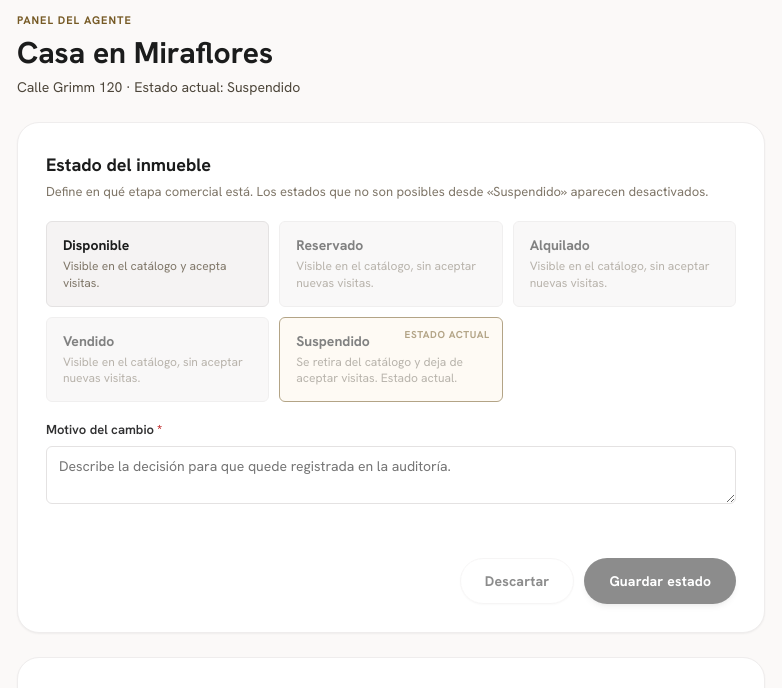
Scenario: AvailabilityPanel › Reflejo de los cambios sobre el panel › abre un suspendido desde gestión y permite reactivarlo al agente asignado
Expected: the text "Calle Grimm 120 · Estado actual: Suspendido" is shown, [17,78,300,96]
Step 1. Click the radio button labelled "Disponible Visible en el catálogo y acepta visitas." → (158, 264), box [46,221,269,307]
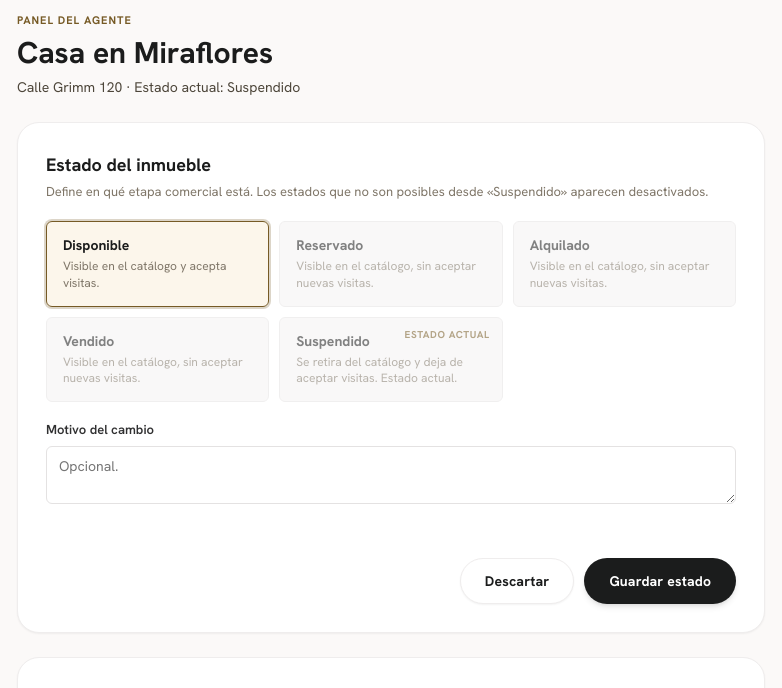
Step 2. Click the button "Guardar estado" → (660, 581), box [584,558,736,604]
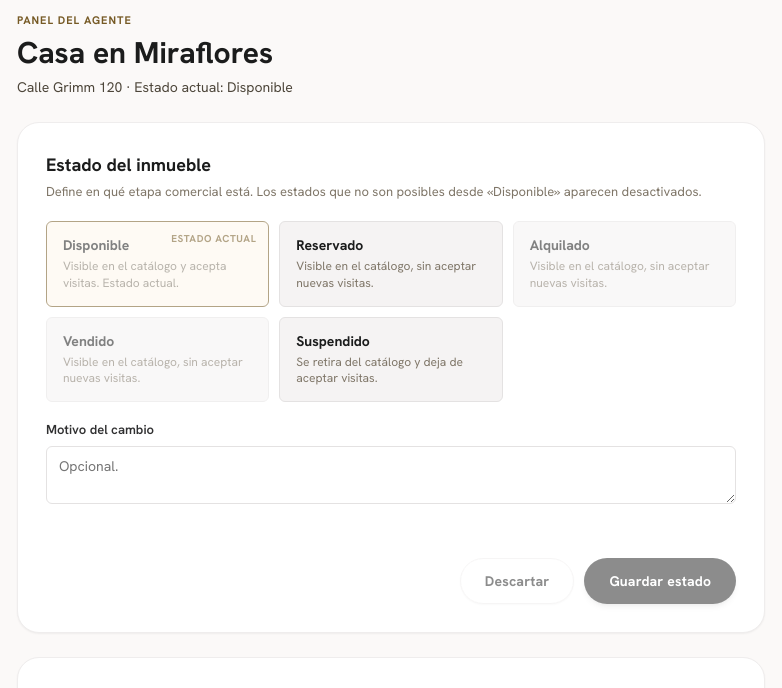
Expected: the text "Calle Grimm 120 · Estado actual: Disponible" is shown, [17,78,293,96]
